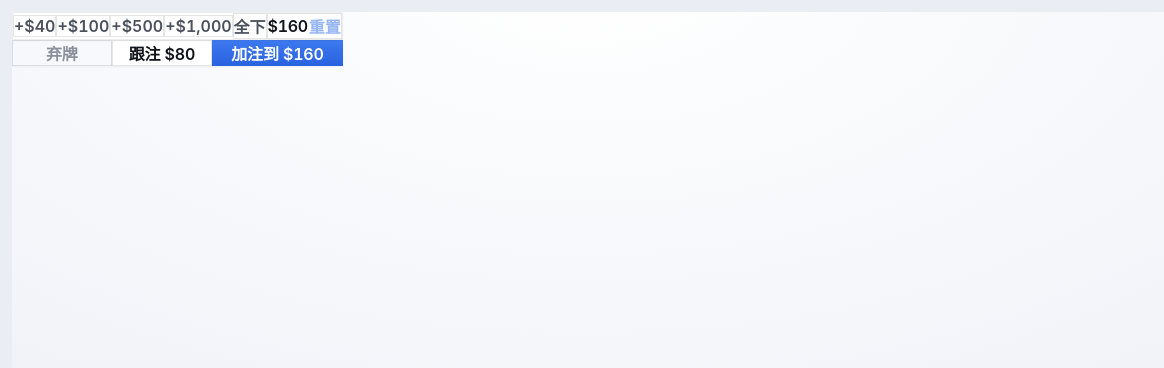
Test: 主按钮的文案是「加注到」的总额 › 推到最大时改说「全下」，且不再加 committed
The image size is (1164, 368).
What coordinates should you click on to do the following:
click the button "全下"
I would click on:
 (250, 26)
Its box is [233,13,267,39].
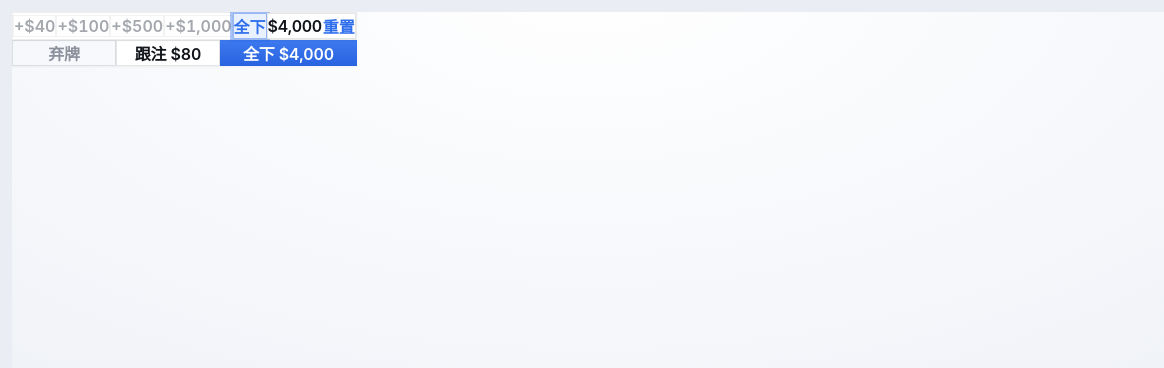
Now the button "全下 $4,000" is shown, box [220,40,357,66]
